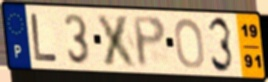3: (206, 15, 238, 75), (63, 13, 92, 66)
L: (29, 12, 60, 64)
O: (173, 17, 206, 71)
P: (130, 15, 168, 70)
X: (95, 12, 141, 69)
